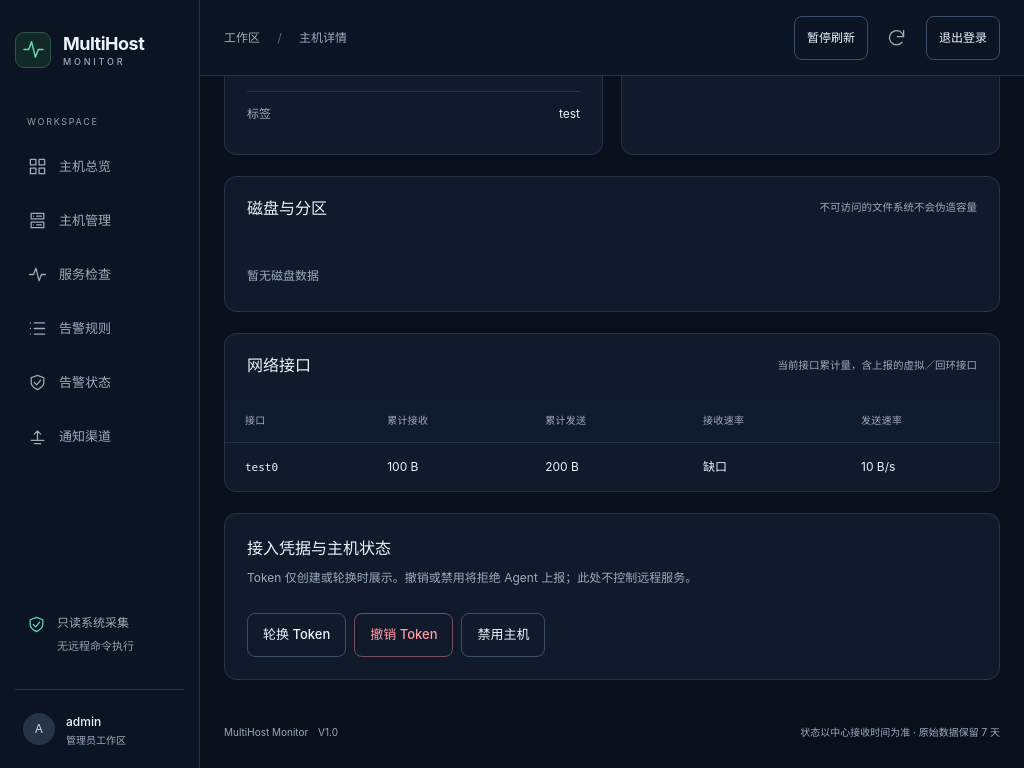
Test: detail revoke confirmation uses CSRF and does not expose stored tokens
The image size is (1024, 768).
(page scrolled)
Click the button "撤销 Token".
click(404, 634)  # box [354,612,453,656]
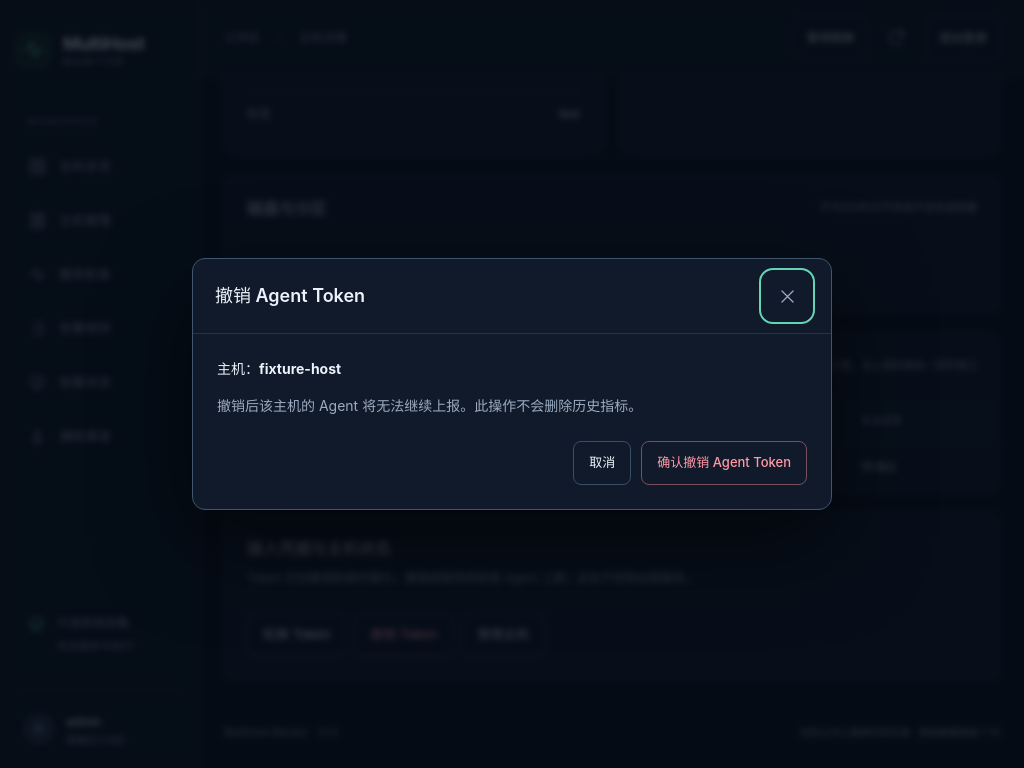
Click the button "确认撤销 Agent Token".
click(724, 463)  # box [641,441,807,485]
(page scrolled)
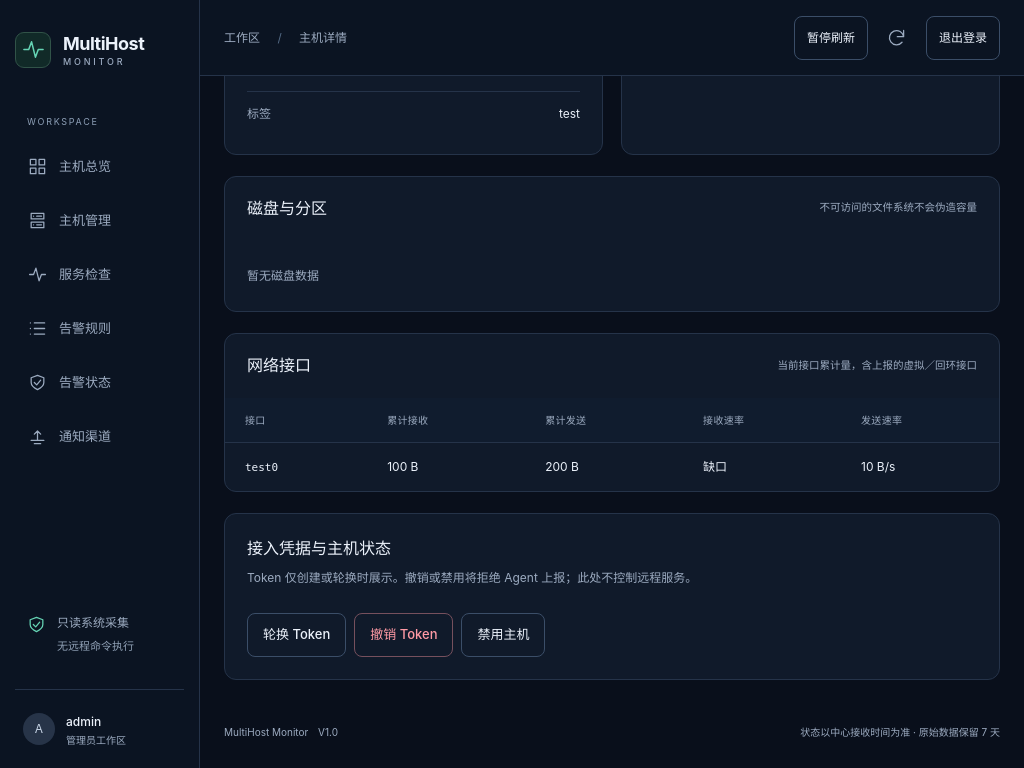
Now the dialog is gone
